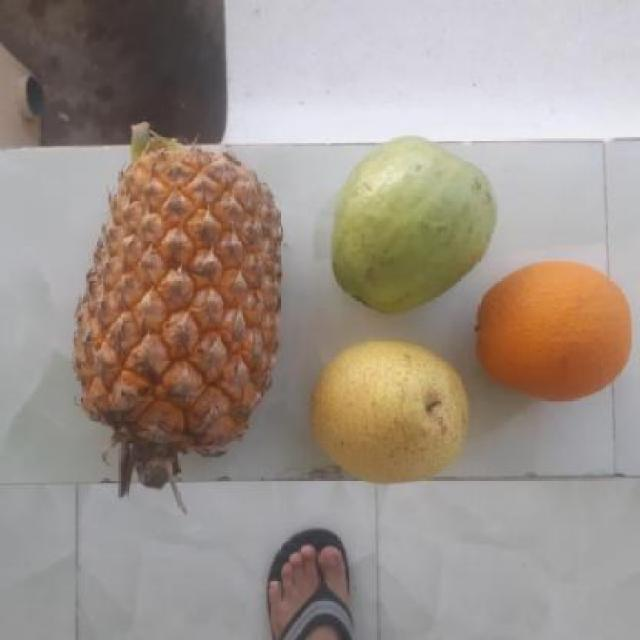guava: (322, 143, 489, 311)
oren: (468, 259, 634, 398)
pear: (302, 340, 473, 483)
pineapple: (73, 140, 270, 451)
